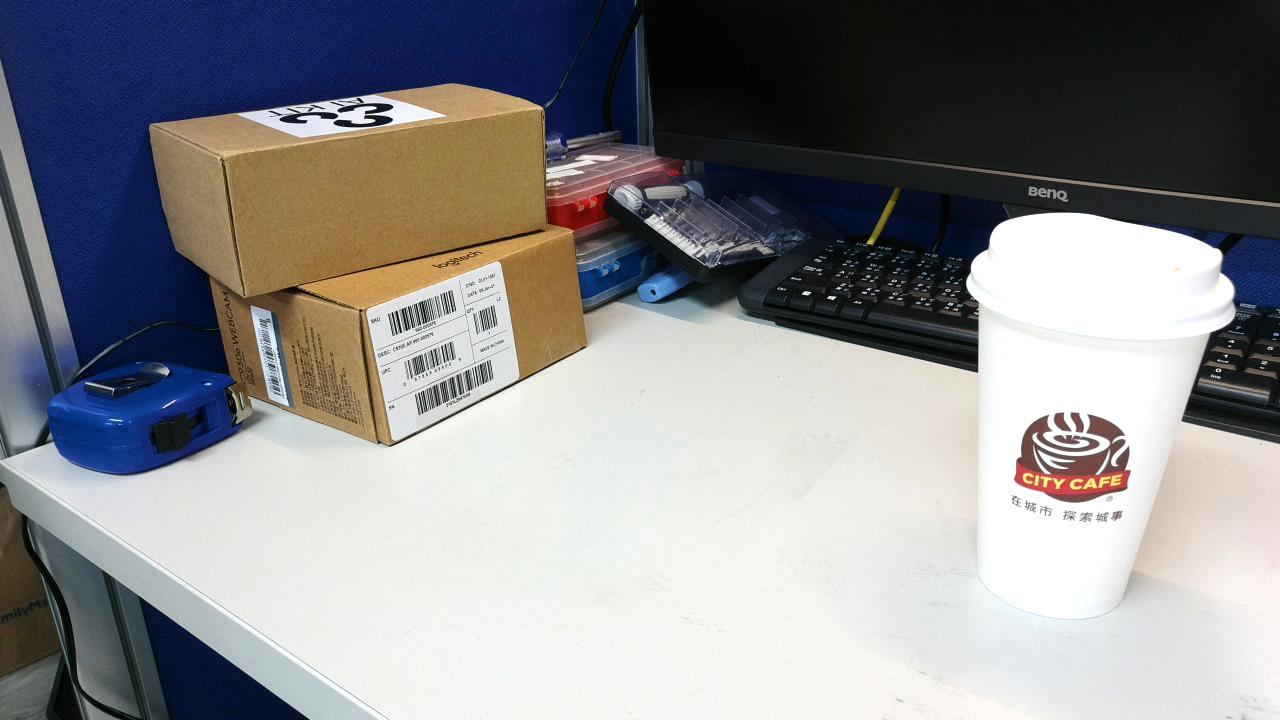columnar: (579, 121, 820, 697)
